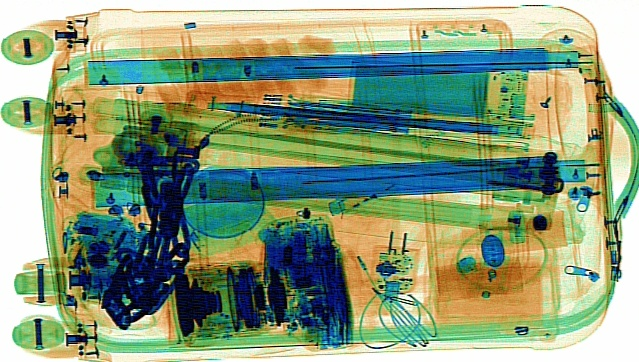lighter: (328, 161, 417, 218)
